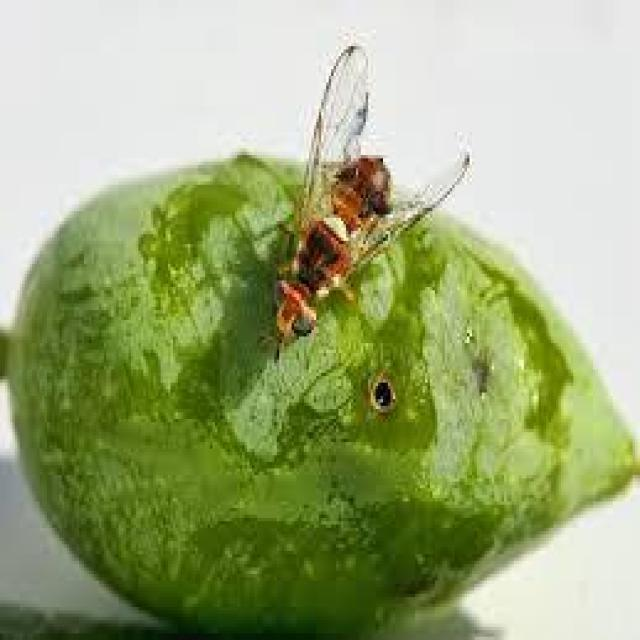Anthracnose: (15, 43, 638, 627)
